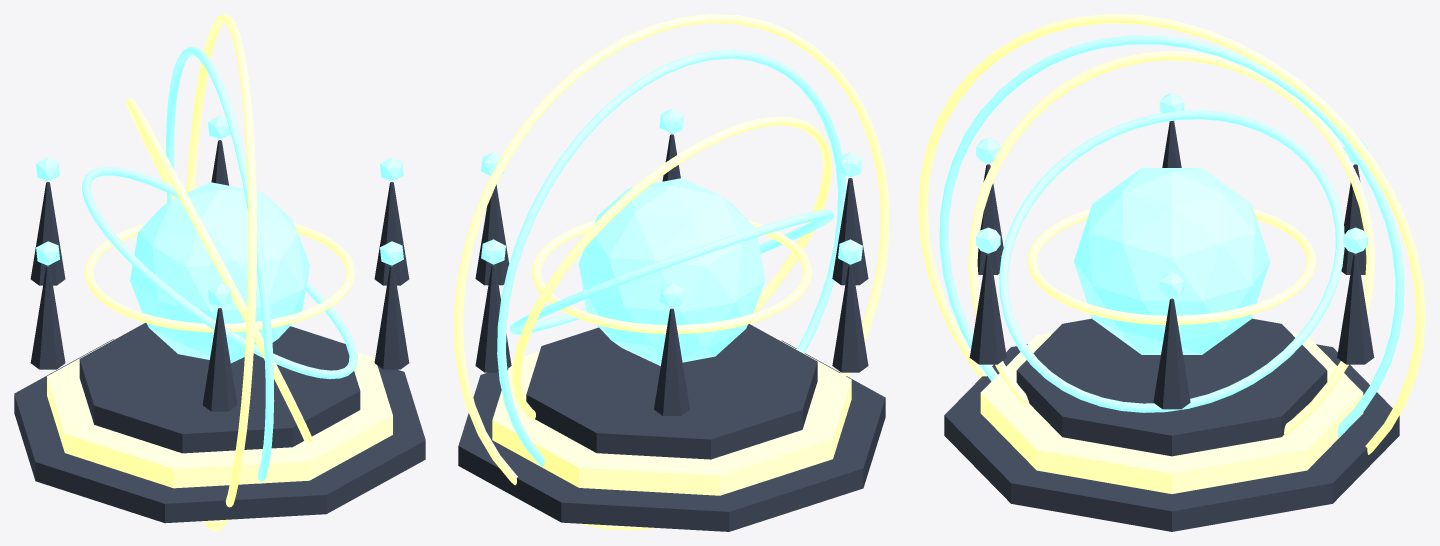
Rendered from gpu-blender-v8.glb.
3 views of the same model, side by side, from view 1: azimuth 30°, elevation 25°; view 2: azimuth 150°, elevation 25°; view 3: azimuth 270°, elevation 25° (orthographic). The views are drawn at different scales.
Parts seen in each view (by area): view 1: Cylinder.002, Cylinder, SovereignCore_digital-asset-forge, Cylinder.001, Torus.004, Torus.003, Torus.001, Torus, Torus.002, Cone.004, Cone.003, Cone.005 (+3 smaller); view 2: Cylinder.002, SovereignCore_digital-asset-forge, Cylinder, Cylinder.001, Torus.004, Torus.003, Torus.002, Torus.001, Torus, Cone.003, Cone.002, Cone.001 (+2 smaller); view 3: SovereignCore_digital-asset-forge, Cylinder.002, Cylinder, Cylinder.001, Torus.004, Torus.001, Torus.003, Torus.002, Torus, Cone, Cone.001, Cone.005 (+3 smaller).
Part boxes in pixels (x1,y1,x2,y2): Cylinder.002: (79,323,360,453); Cylinder: (14,339,425,523); SovereignCore_digital-asset-forge: (130,182,309,363); Cylinder.001: (47,330,392,488); Torus.004: (186,14,257,531); Torus.003: (165,47,274,483); Torus.001: (82,166,357,379); Torus: (85,223,354,332); Torus.002: (126,98,312,442); Cone.004: (202,308,237,411); Cone.003: (30,266,65,369); Cone.005: (374,266,409,369); Cylinder.002: (526,324,817,459); SovereignCore_digital-asset-forge: (578,178,765,366); Cylinder: (458,340,885,531); Cylinder.001: (492,331,851,495); Torus.004: (454,14,889,530); Torus.003: (497,49,846,466); Torus.002: (512,116,831,419); Torus.001: (510,209,833,334); Torus: (531,220,812,333); Cone.003: (832,265,868,372); Cone.002: (654,308,689,415); Cone.001: (475,265,511,372); SovereignCore_digital-asset-forge: (1073,168,1270,354); Cylinder.002: (1016,318,1327,456); Cylinder: (944,344,1399,531); Cylinder.001: (980,332,1363,493); Torus.004: (918,14,1425,454); Torus.001: (999,110,1344,412); Torus.003: (939,35,1404,437); Torus.002: (968,51,1375,435); Torus: (1027,209,1316,324); Cone: (1153,298,1190,409); Cone.001: (1337,254,1374,364); Cone.005: (969,254,1006,364).
Size of the model in its own units: 4.41 by 5.33 by 4.9.
